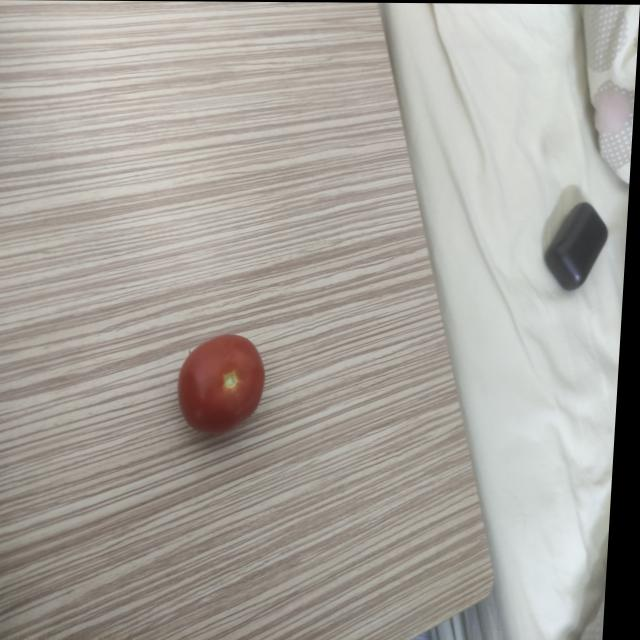kirmizi: (169, 326, 286, 444)
